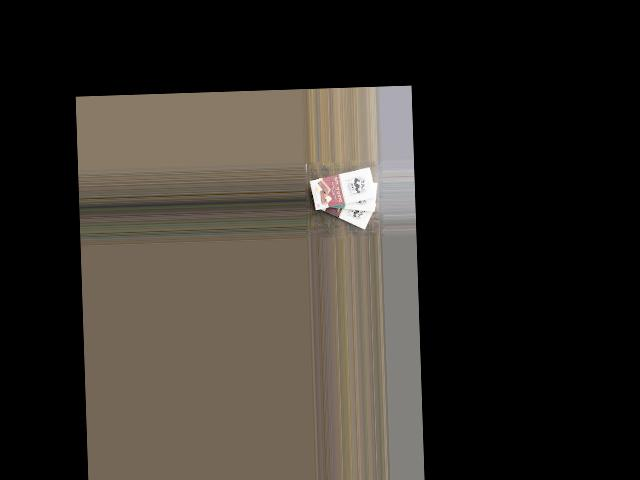chocolate: (310, 187, 378, 232)
